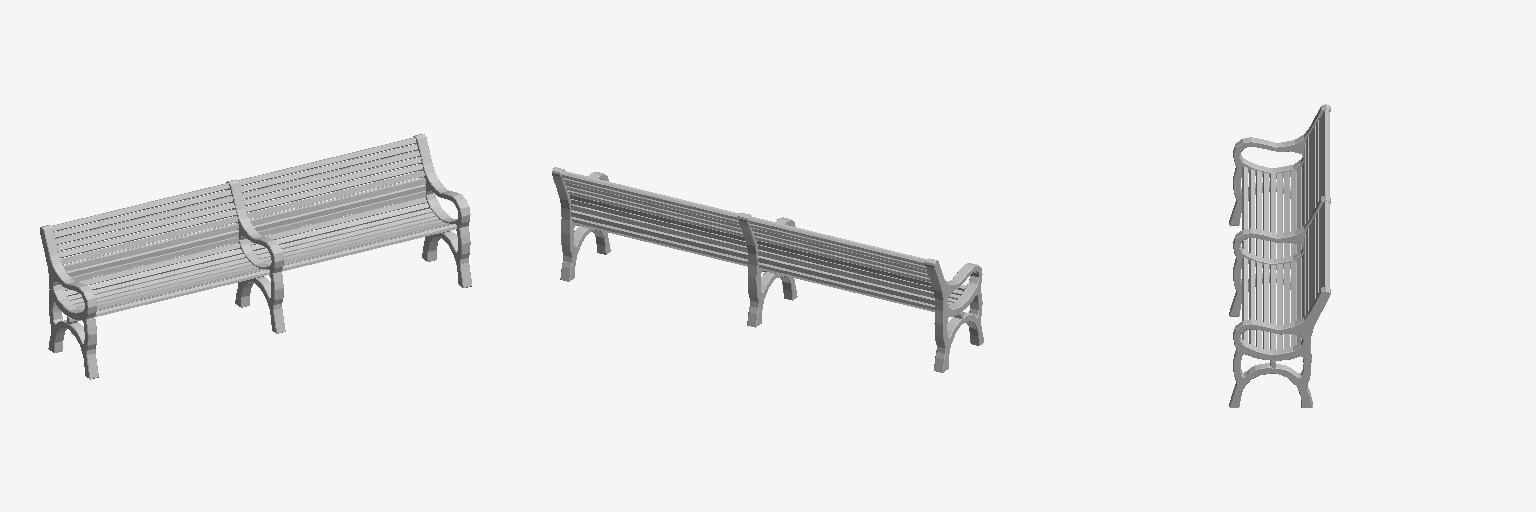
Rendered from banca.obj.
3 views of the same model, side by side, from view 1: azimuth 30°, elevation 25°; view 2: azimuth 150°, elevation 25°; view 3: azimuth 270°, elevation 25° (orthographic).
Visible parts, largest first — view 1: Bench; view 2: Bench; view 3: Bench.
Part boxes in pixels (x1,y1,x2,y2): Bench: (40, 134, 471, 379); Bench: (552, 167, 983, 372); Bench: (1229, 104, 1330, 407).
Bounding box in the file's own units: 20.51 × 6.01 × 4.7.